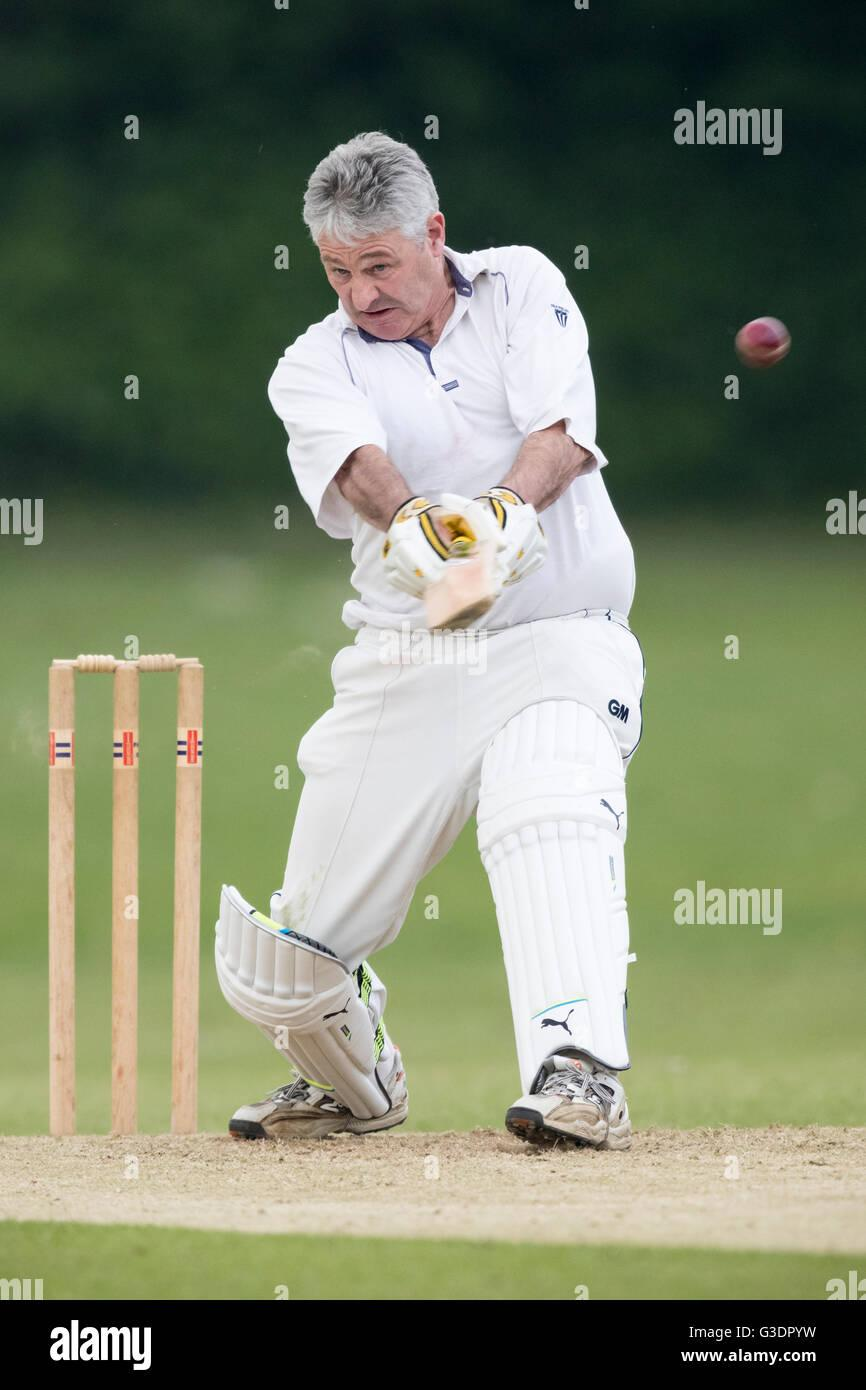batsman: (210, 130, 650, 1144)
